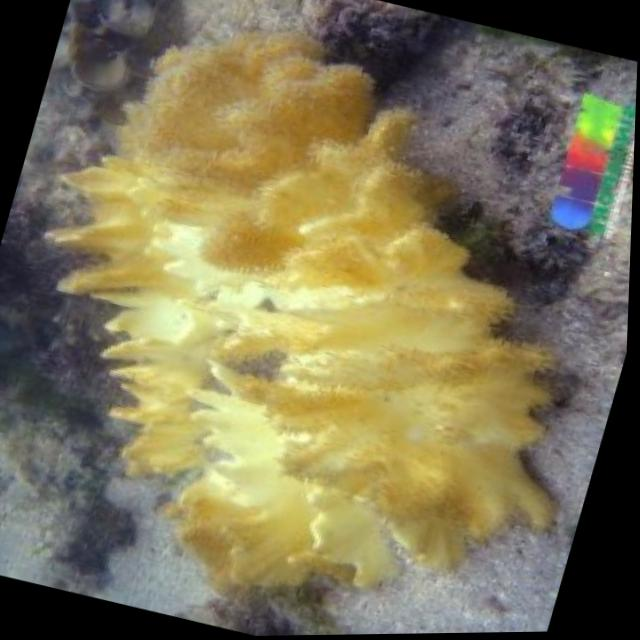Bleached Coral: (0, 8, 640, 640)
